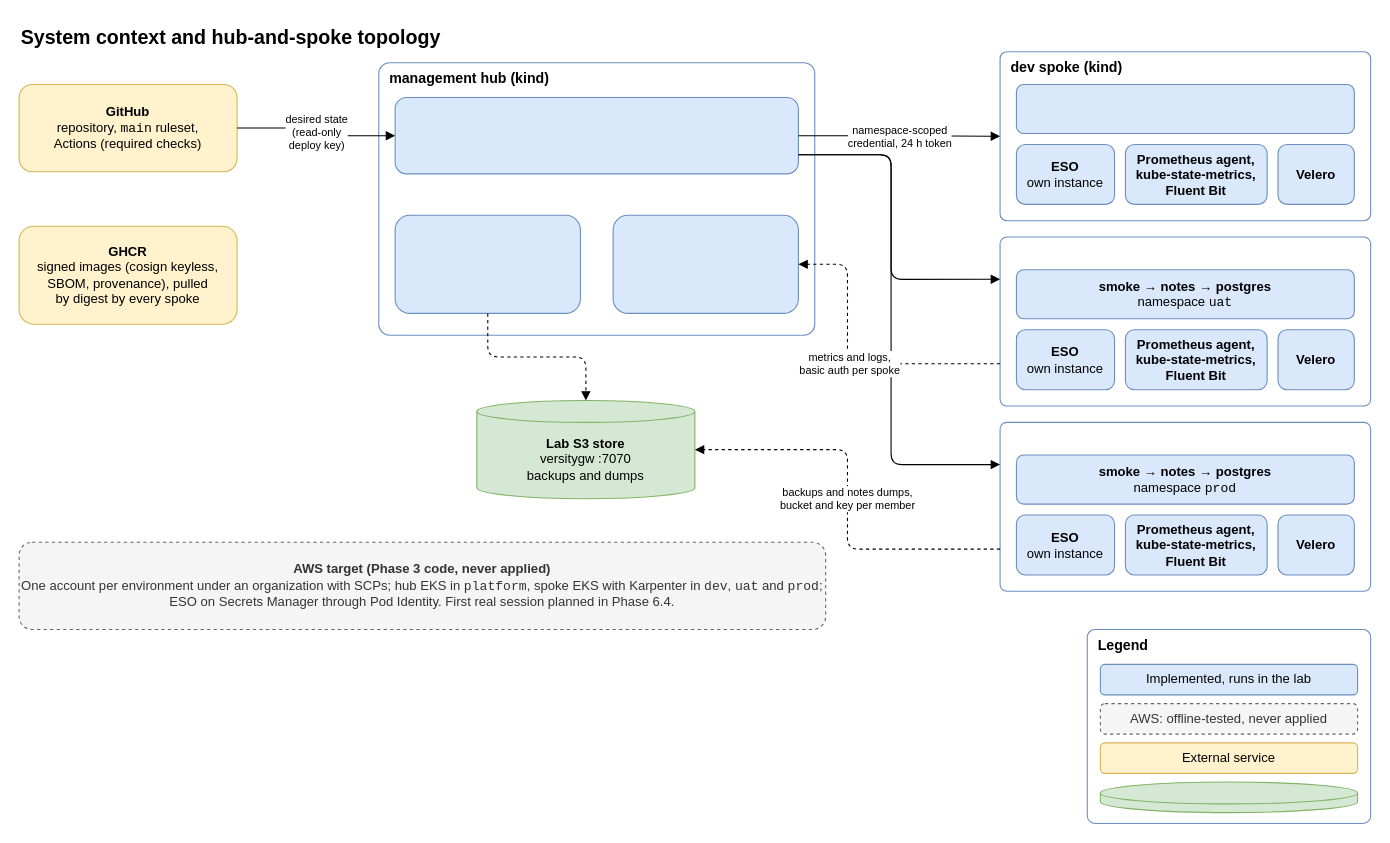
This 1390x843 diagram has some shape labels left out. The shapes that lost their labels are listed below. From the top down, each one's box as (x1, y1, x2, y2) in pixels, then its label:
(1015, 83, 1354, 134): smoke → notes → postgres namespace dev
(394, 96, 798, 174): Argo CD root Application platform-bootstrap , one ApplicationSet per component
(394, 214, 580, 313): Velero hub backups
(612, 214, 798, 313): Prometheus, Alertmanager, Grafana, Loki alerts and dashboards
(999, 236, 1371, 406): uat spoke (kind)
(999, 421, 1371, 591): prod (opt-in) spoke (kind)
(1099, 781, 1358, 813): Object or data store
